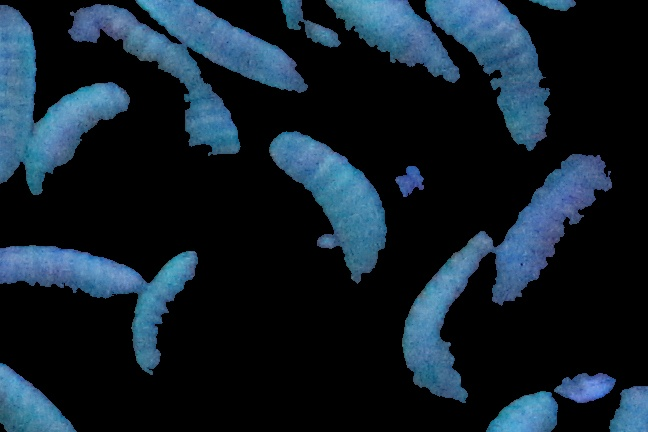larvae: (68, 1, 241, 157), (422, 1, 550, 151), (489, 154, 612, 305), (270, 130, 388, 281), (399, 231, 492, 401), (139, 1, 308, 94), (319, 1, 460, 88), (30, 81, 127, 194), (131, 250, 197, 377), (1, 246, 145, 297), (1, 3, 35, 190), (1, 353, 78, 432), (488, 390, 560, 432)
